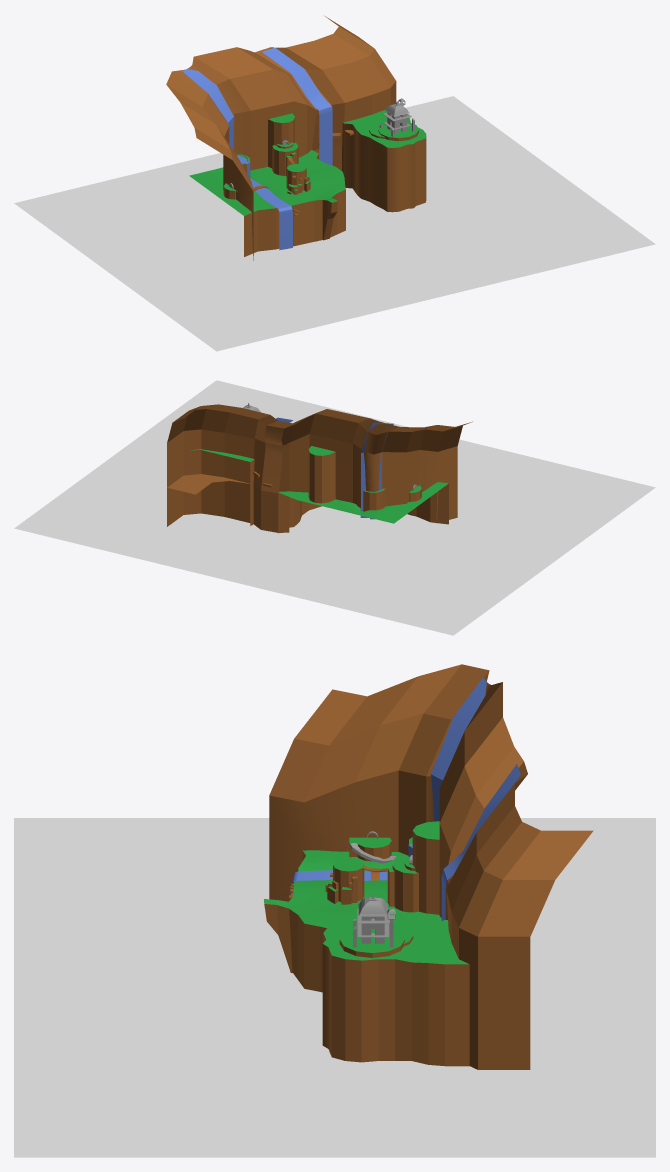
Rendered from Level1.fbx.
The picture shows the model from 3 angles, top to bottom: view 1: azimuth 30°, elevation 25°; view 2: azimuth 150°, elevation 25°; view 3: azimuth 270°, elevation 25°; orthographic projection. The views are drawn at different scales.
Parts seen in each view (by area): view 1: pPlane10, pPlane2, pPlane1, pPlane3, pPlane8, pPlane4, pPlane9, pCylinder5, pCylinder3; view 2: pPlane10, pPlane2, pPlane1, pCylinder5, pPlane3, pPlane9, pCylinder12; view 3: pPlane10, pPlane2, pPlane3, pPlane1, pCylinder5, pPlane9, pPlane8, pCylinder3, pCylinder7, pCylinder1.
Boxes of the visible parts, <box> form: pPlane10: <box>14,96,655,351</box>; pPlane2: <box>166,16,396,260</box>; pPlane1: <box>189,150,345,256</box>; pPlane3: <box>342,104,426,212</box>; pPlane8: <box>262,47,332,165</box>; pPlane4: <box>250,178,292,250</box>; pPlane9: <box>182,68,234,150</box>; pCylinder5: <box>268,113,294,168</box>; pCylinder3: <box>272,142,298,175</box>; pPlane10: <box>14,380,655,635</box>; pPlane2: <box>167,404,472,532</box>; pPlane1: <box>278,482,448,533</box>; pCylinder5: <box>308,446,335,503</box>; pPlane3: <box>190,449,254,525</box>; pPlane9: <box>360,422,393,517</box>; pCylinder12: <box>360,488,385,511</box>; pPlane10: <box>14,818,655,1157</box>; pPlane2: <box>269,664,593,1069</box>; pPlane3: <box>322,920,469,1066</box>; pPlane1: <box>264,850,441,992</box>; pCylinder5: <box>412,821,439,914</box>; pPlane9: <box>430,678,488,821</box>; pPlane8: <box>441,764,520,920</box>; pCylinder3: <box>392,856,418,912</box>; pCylinder7: <box>339,927,404,957</box>; pCylinder1: <box>333,858,364,901</box>.
Bounding box in the file's own units: 389 × 131 × 311.
